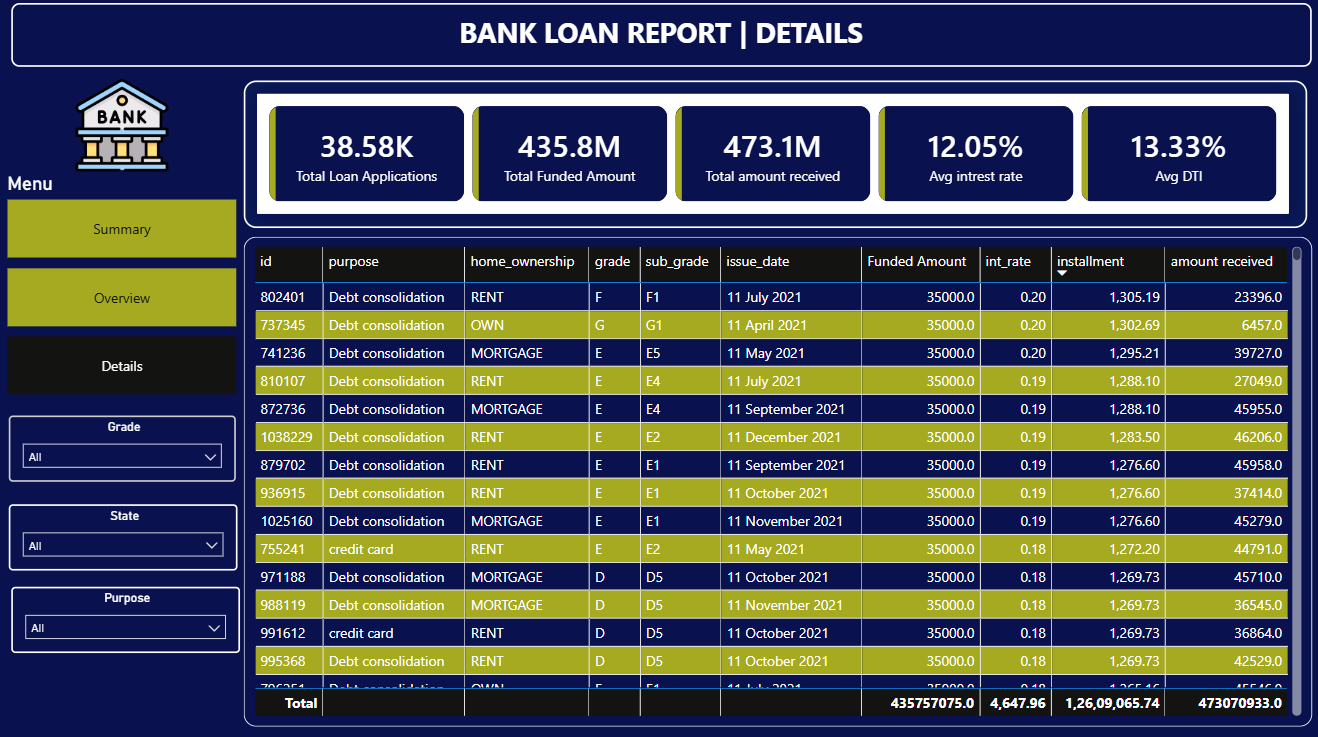

Layout of this report page (visuals, bound fields, positions):
{"tool":"powerbi","page":{"name":"Details","canvas":[1280,720],"ordinal":2},"visuals":[{"type":"tableEx","fields":{"Values":["public bank_loan_data.id","public bank_loan_data.purpose","public bank_loan_data.home_ownership","public bank_loan_data.grade","public bank_loan_data.sub_grade","public bank_loan_data.issue_date","public bank_loan_data.Total Funded Amount","Sum(public bank_loan_data.int_rate)","Sum(public bank_loan_data.installment)","public bank_loan_data.Total amount received"]},"box":[235,235,1031.2,472.5],"z":0},{"type":"pageNavigator","title":"Menu","box":[7.2,173.7,222,216],"z":1000},{"type":"cardVisual","fields":{"Data":["public bank_loan_data.Total Loan Applications","public bank_loan_data.Total Funded Amount","public bank_loan_data.Total amount received","public bank_loan_data.Avg intrest rate","public bank_loan_data.Avg DTI"]},"box":[235.3,84.5,1026.7,142.4],"z":2000},{"type":"slicer","title":"State","fields":{"Values":["public bank_loan_data.address_state"]},"box":[8.4,569.4,220.8,63.9],"z":3000},{"type":"slicer","title":"New Measure","fields":{"Values":["New Measure.New Measure"]},"box":[8.4,405.4,220.8,68.8],"z":4000},{"type":"slicer","title":"Grade","fields":{"Values":["public bank_loan_data.grade"]},"box":[10.9,489.8,219.6,63.9],"z":5000},{"type":"slicer","title":"Purpose","fields":{"Values":["public bank_loan_data.purpose"]},"box":[8.4,643,220.8,63.9],"z":6000},{"type":"textbox","box":[11.2,10,1255,61.2],"z":7000},{"type":"image","box":[21.2,82.5,192.5,91.2],"z":7001}]}

Visuals, with their boxes in screenshot pixels (x1, y1, x2, y2), scaled from the page's 1280x720 canvas onto the 1318x737 screenshot:
tableEx - public bank_loan_data.id x public bank_loan_data.purpose: <box>242,241,1304,724</box>
"Menu" pageNavigator: <box>7,178,236,399</box>
cardVisual - public bank_loan_data.Total Loan Applications x public bank_loan_data.Total Funded Amount: <box>242,86,1299,232</box>
"State" slicer: <box>9,583,236,648</box>
"New Measure" slicer: <box>9,415,236,485</box>
"Grade" slicer: <box>11,501,237,567</box>
"Purpose" slicer: <box>9,658,236,724</box>
textbox: <box>12,10,1304,73</box>
image: <box>22,84,220,178</box>
